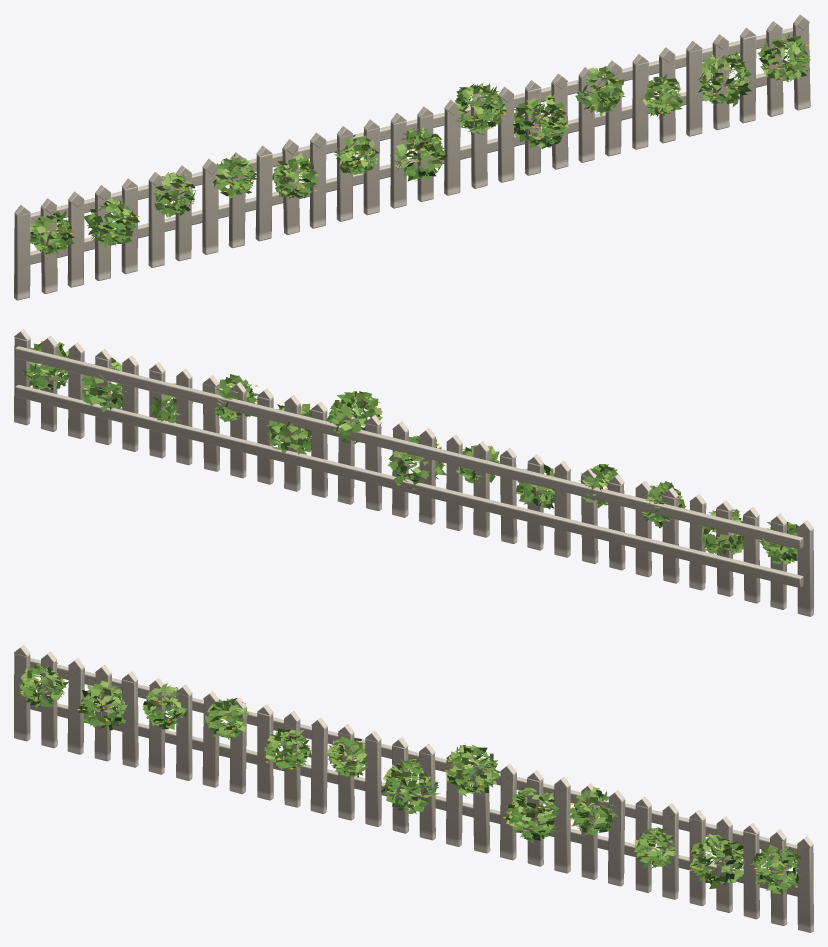
The model's file is unlock-flowerfence-xuan.glb.
3 views of the same model, one above another, from view 1: azimuth 30°, elevation 25°; view 2: azimuth 150°, elevation 25°; view 3: azimuth 330°, elevation 25° (orthographic).
Parts seen in each view (by area): view 1: unlock-flowerfence-static; view 2: unlock-flowerfence-static; view 3: unlock-flowerfence-static.
Boxes of the visible parts, x1,y1,x2,y2 form: unlock-flowerfence-static: (14, 14, 810, 300); unlock-flowerfence-static: (14, 329, 813, 616); unlock-flowerfence-static: (14, 645, 813, 932).
Bounding box in the file's own units: 3.25 × 0.4136 × 0.2158.
11 materials, 2 textured.
